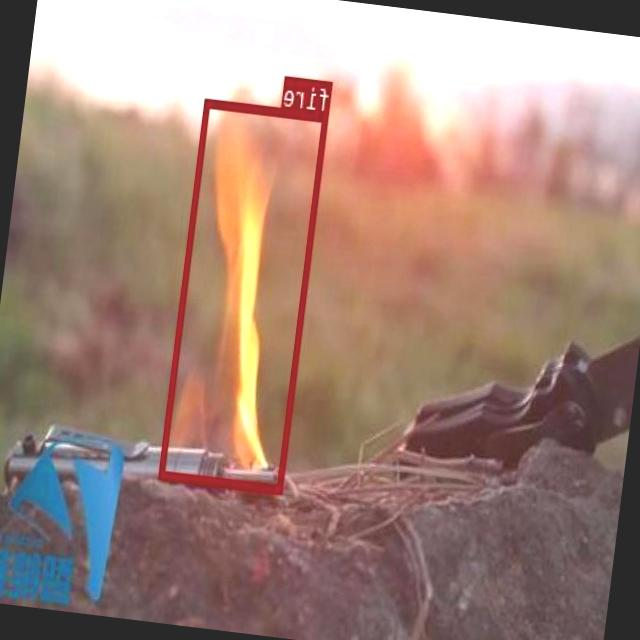fire: (158, 97, 330, 491)
